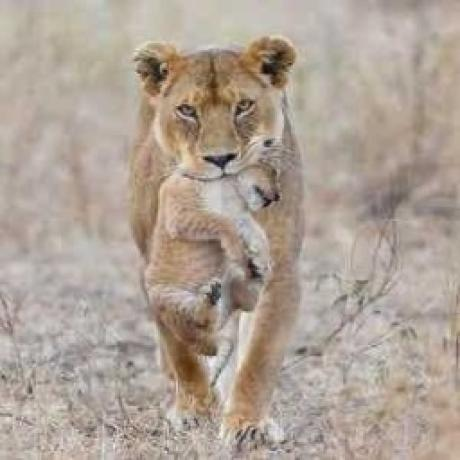Lion: (128, 30, 309, 456), (142, 156, 276, 358)
